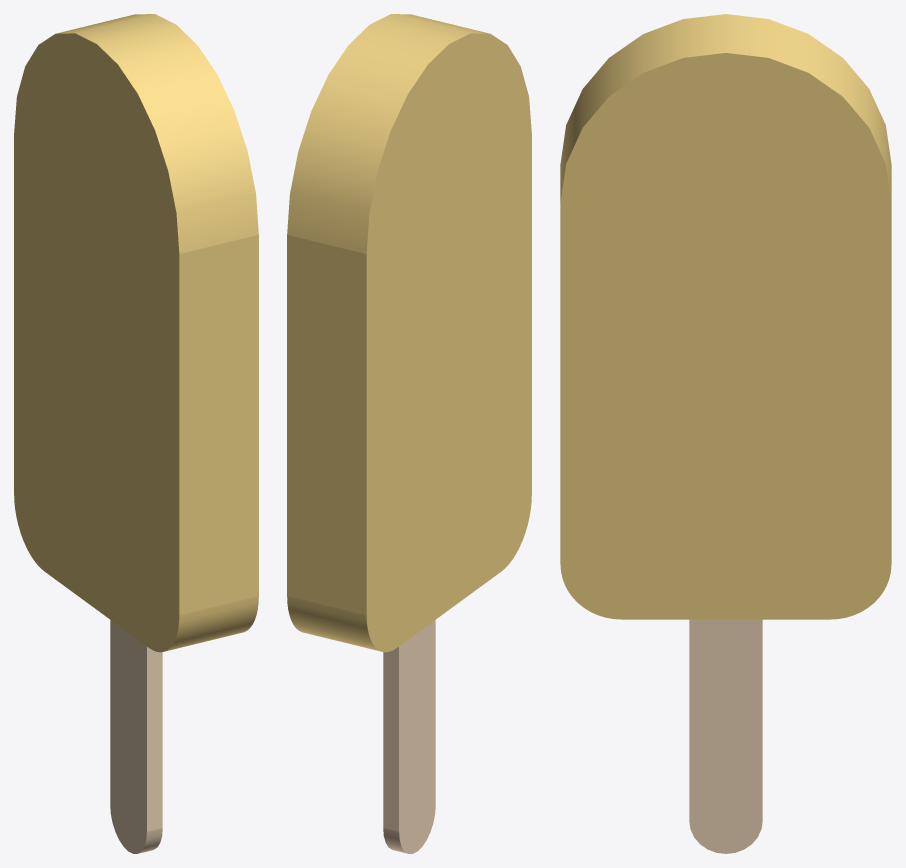
Rendered from popsicle.glb.
The picture shows the model from 3 angles, left to right: view 1: azimuth 30°, elevation 25°; view 2: azimuth 150°, elevation 25°; view 3: azimuth 270°, elevation 25°; orthographic projection.
Visible parts, largest first — view 1: popsicle; view 2: popsicle; view 3: popsicle.
Boxes of the visible parts, x1,y1,x2,y2 form: popsicle: (14,14,258,853); popsicle: (287,14,531,853); popsicle: (560,14,891,853).
Bounding box in the file's own units: 0.05 × 0.49 × 0.18.
